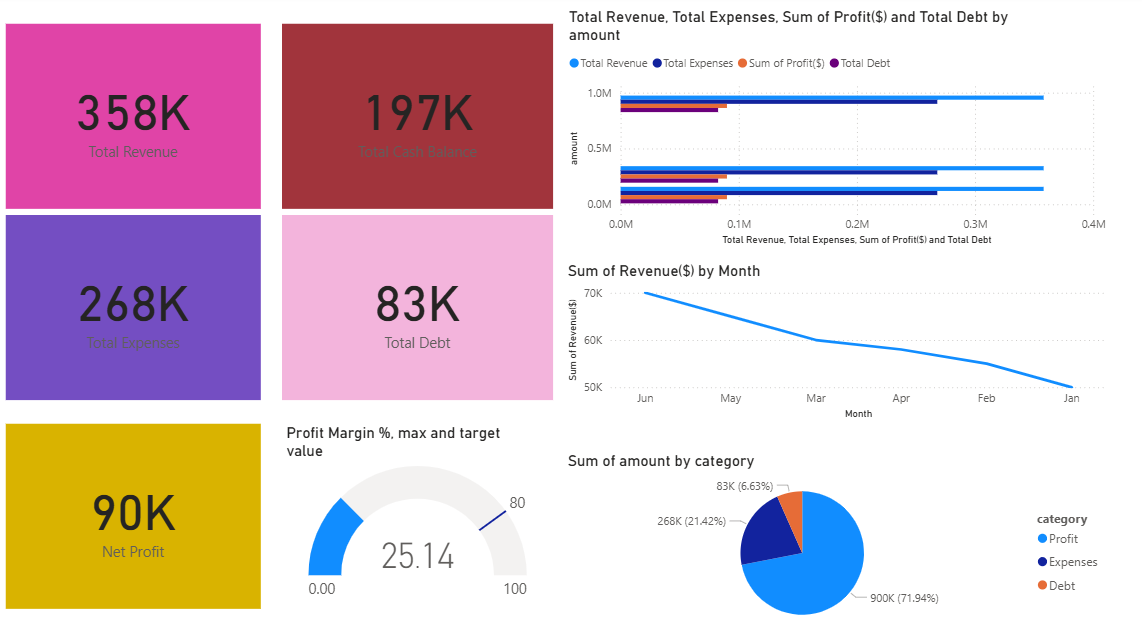

The page's visual inventory and layout, read from the dashboard file:
{"tool":"powerbi","page":{"name":"Page 1","canvas":[1280,720],"ordinal":0},"visuals":[{"type":"card","fields":{"Values":["Sheet1.Total Revenue"]},"box":[9.6,31.6,279.9,203.1],"z":0},{"type":"card","fields":{"Values":["Sheet1.Total Expenses"]},"box":[10,241.5,280,203],"z":1000},{"type":"card","fields":{"Values":["Sheet1.Net Profit"]},"box":[10,471,280,203],"z":2000},{"type":"card","fields":{"Values":["Sheet1.Total Cash Balance"]},"box":[312.9,31.6,297.8,203.1],"z":3000},{"type":"card","fields":{"Values":["Sheet1.Total Debt"]},"box":[312.9,241.5,297.8,203.1],"z":4000},{"type":"gauge","fields":{"Y":["Sheet1.Profit Margin %"],"TargetValue":["Sheet1.target value"],"MaxValue":["Sheet1.max"]},"box":[313,471,298,203],"z":5000},{"type":"clusteredBarChart","fields":{"Y":["Sheet1.Total Revenue","Sheet1.Total Expenses","Sum(Sheet1.Profit($))","Sheet1.Total Debt"],"Category":["Sheet1 (2).amount"]},"box":[623,13.7,599.7,266.2],"z":6000},{"type":"lineChart","fields":{"Category":["Sheet1.Month"],"Y":["Sum(Sheet1.Revenue($))"]},"box":[621.6,292.3,601,178.4],"z":7000},{"type":"pieChart","fields":{"Category":["Sheet1 (2).category"],"Y":["Sum(Sheet1 (2).amount)"]},"box":[621.6,500.9,601,203.1],"z":8000}]}

Visuals, with their boxes in screenshot pixels (x1, y1, x2, y2), scaled from the page's 1280x720 canvas onto the 1142x636 screenshot:
card - Sheet1.Total Revenue: pyautogui.locateOnScreen(9, 28, 258, 207)
card - Sheet1.Total Expenses: pyautogui.locateOnScreen(9, 213, 259, 393)
card - Sheet1.Net Profit: pyautogui.locateOnScreen(9, 416, 259, 595)
card - Sheet1.Total Cash Balance: pyautogui.locateOnScreen(279, 28, 545, 207)
card - Sheet1.Total Debt: pyautogui.locateOnScreen(279, 213, 545, 393)
gauge - Sheet1.Profit Margin % x Sheet1.target value: pyautogui.locateOnScreen(279, 416, 545, 595)
clusteredBarChart - Sheet1.Total Revenue x Sheet1.Total Expenses: pyautogui.locateOnScreen(556, 12, 1091, 247)
lineChart - Sheet1.Month x Sum(Sheet1.Revenue($)): pyautogui.locateOnScreen(555, 258, 1091, 416)
pieChart - Sheet1 (2).category x Sum(Sheet1 (2).amount): pyautogui.locateOnScreen(555, 442, 1091, 622)
